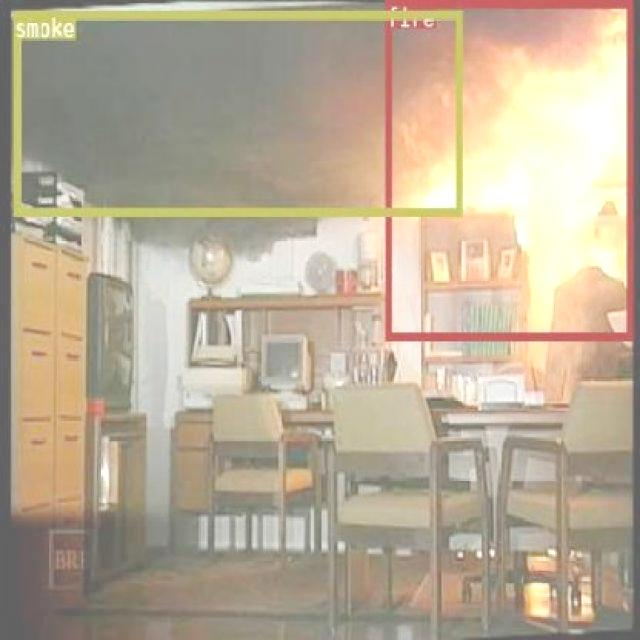fire: (383, 0, 631, 338)
smoke: (12, 10, 460, 215)
